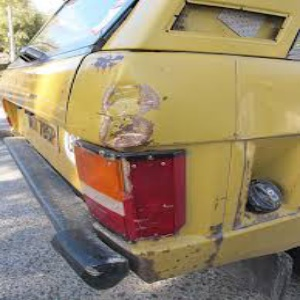bumper_scratch: (82, 53, 162, 145)
